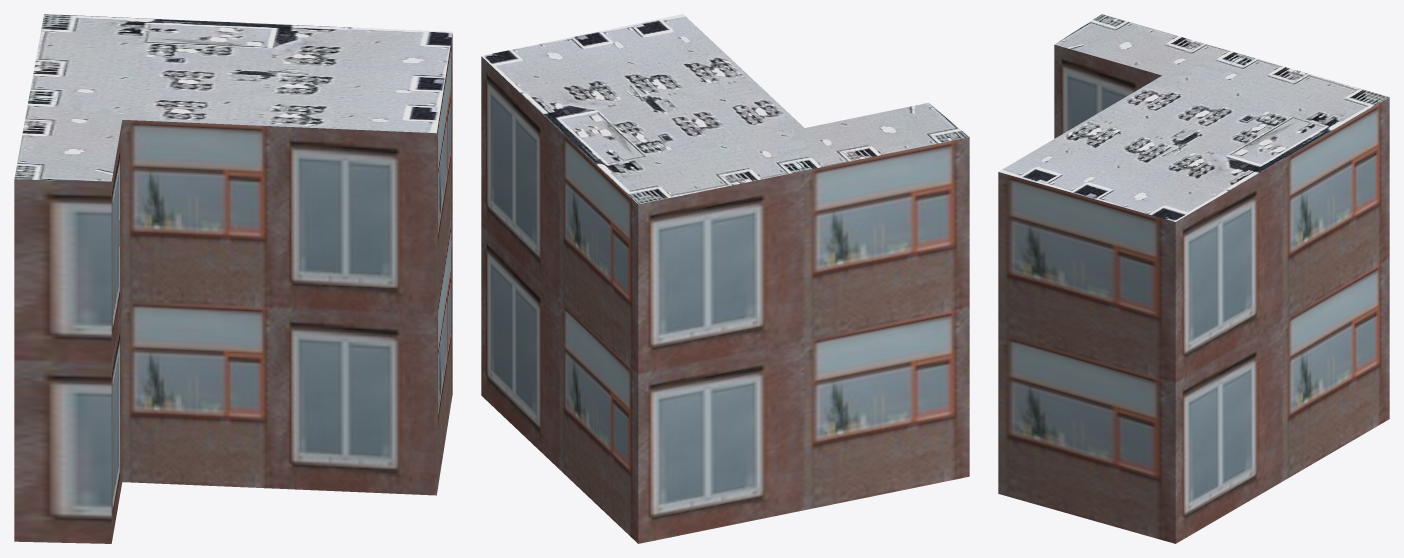
The model's file is ResTex__3865.fbx.
3 renders of one model, left to right at view 1: azimuth 30°, elevation 25°; view 2: azimuth 150°, elevation 25°; view 3: azimuth 270°, elevation 25°, orthographic. The views are drawn at different scales.
Parts seen in each view (by area): view 1: CityEngineMaterial_19_m, CityEngineMaterial_15_m; view 2: CityEngineMaterial_19_m, CityEngineMaterial_15_m; view 3: CityEngineMaterial_19_m, CityEngineMaterial_15_m.
Boxes of the visible parts, x1,y1,x2,y2 form: CityEngineMaterial_19_m: (14,33,452,543); CityEngineMaterial_15_m: (14,14,452,181); CityEngineMaterial_19_m: (481,56,969,543); CityEngineMaterial_15_m: (481,14,969,204); CityEngineMaterial_19_m: (998,44,1389,543); CityEngineMaterial_15_m: (998,14,1389,221).
Size of the model in its own units: 8.32 by 6 by 6.61.
2 materials, 2 textured.
